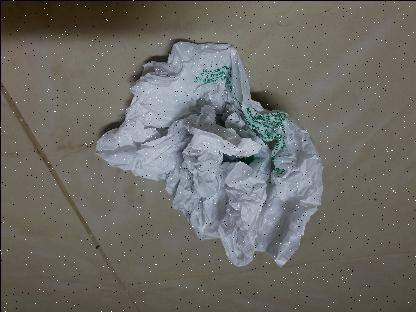Others: (93, 38, 321, 266)
